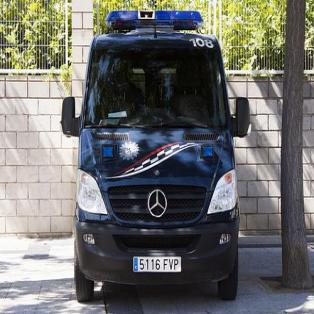Auto: (60, 7, 251, 308)
